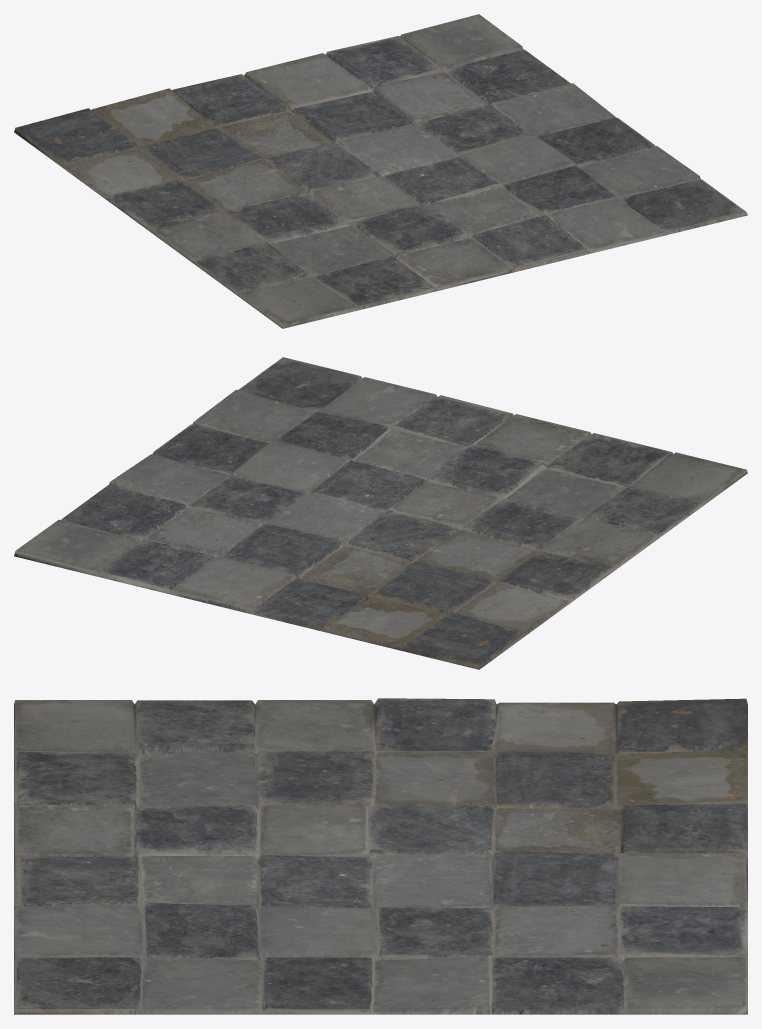
The model's file is sm_Floor_01_01.fbx.
3 renders of one model, top to bottom at view 1: azimuth 30°, elevation 25°; view 2: azimuth 150°, elevation 25°; view 3: azimuth 270°, elevation 25°, orthographic. The views are drawn at different scales.
Parts seen in each view (by area): view 1: sm_Floor_01_01_LOD0; view 2: sm_Floor_01_01_LOD0; view 3: sm_Floor_01_01_LOD0.
Part boxes in pixels (<box>): sm_Floor_01_01_LOD0: <box>14,14,747,328</box>; sm_Floor_01_01_LOD0: <box>14,357,747,669</box>; sm_Floor_01_01_LOD0: <box>14,698,747,1014</box>.
Bounding box in the file's own units: 250 × 250 × 4.75.
